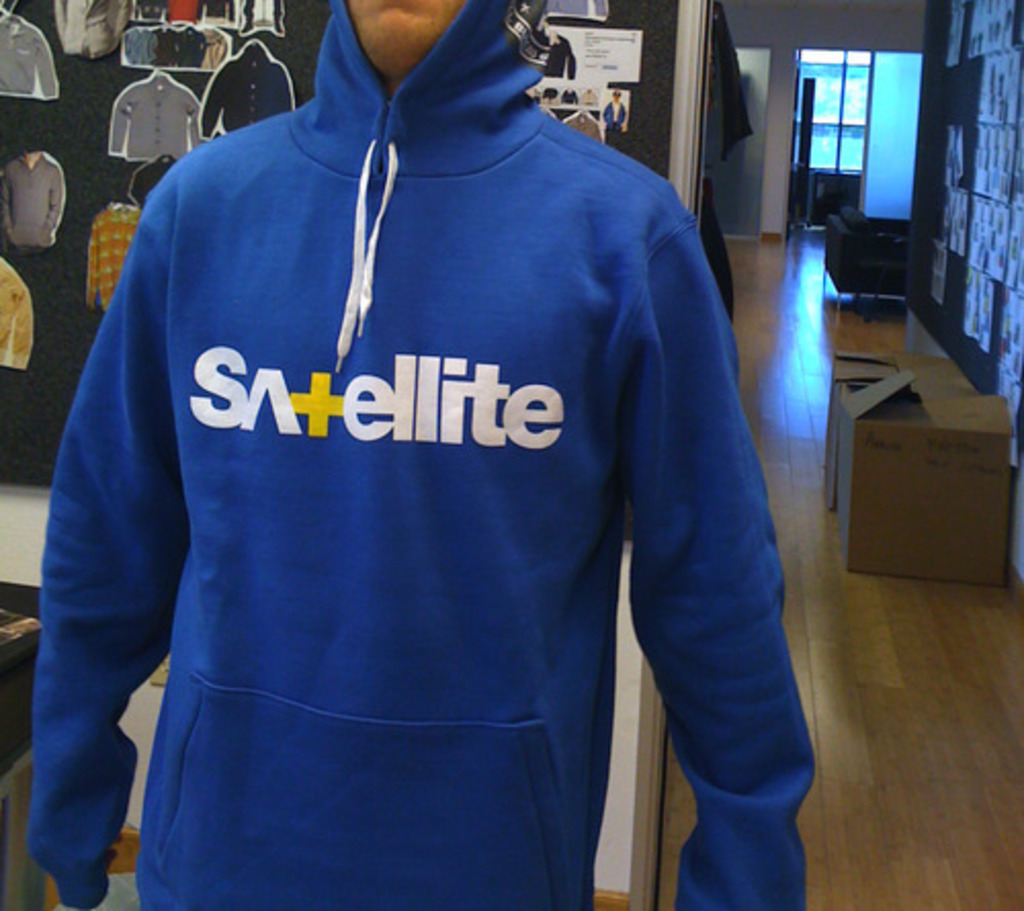Person: (27, 0, 815, 911)
